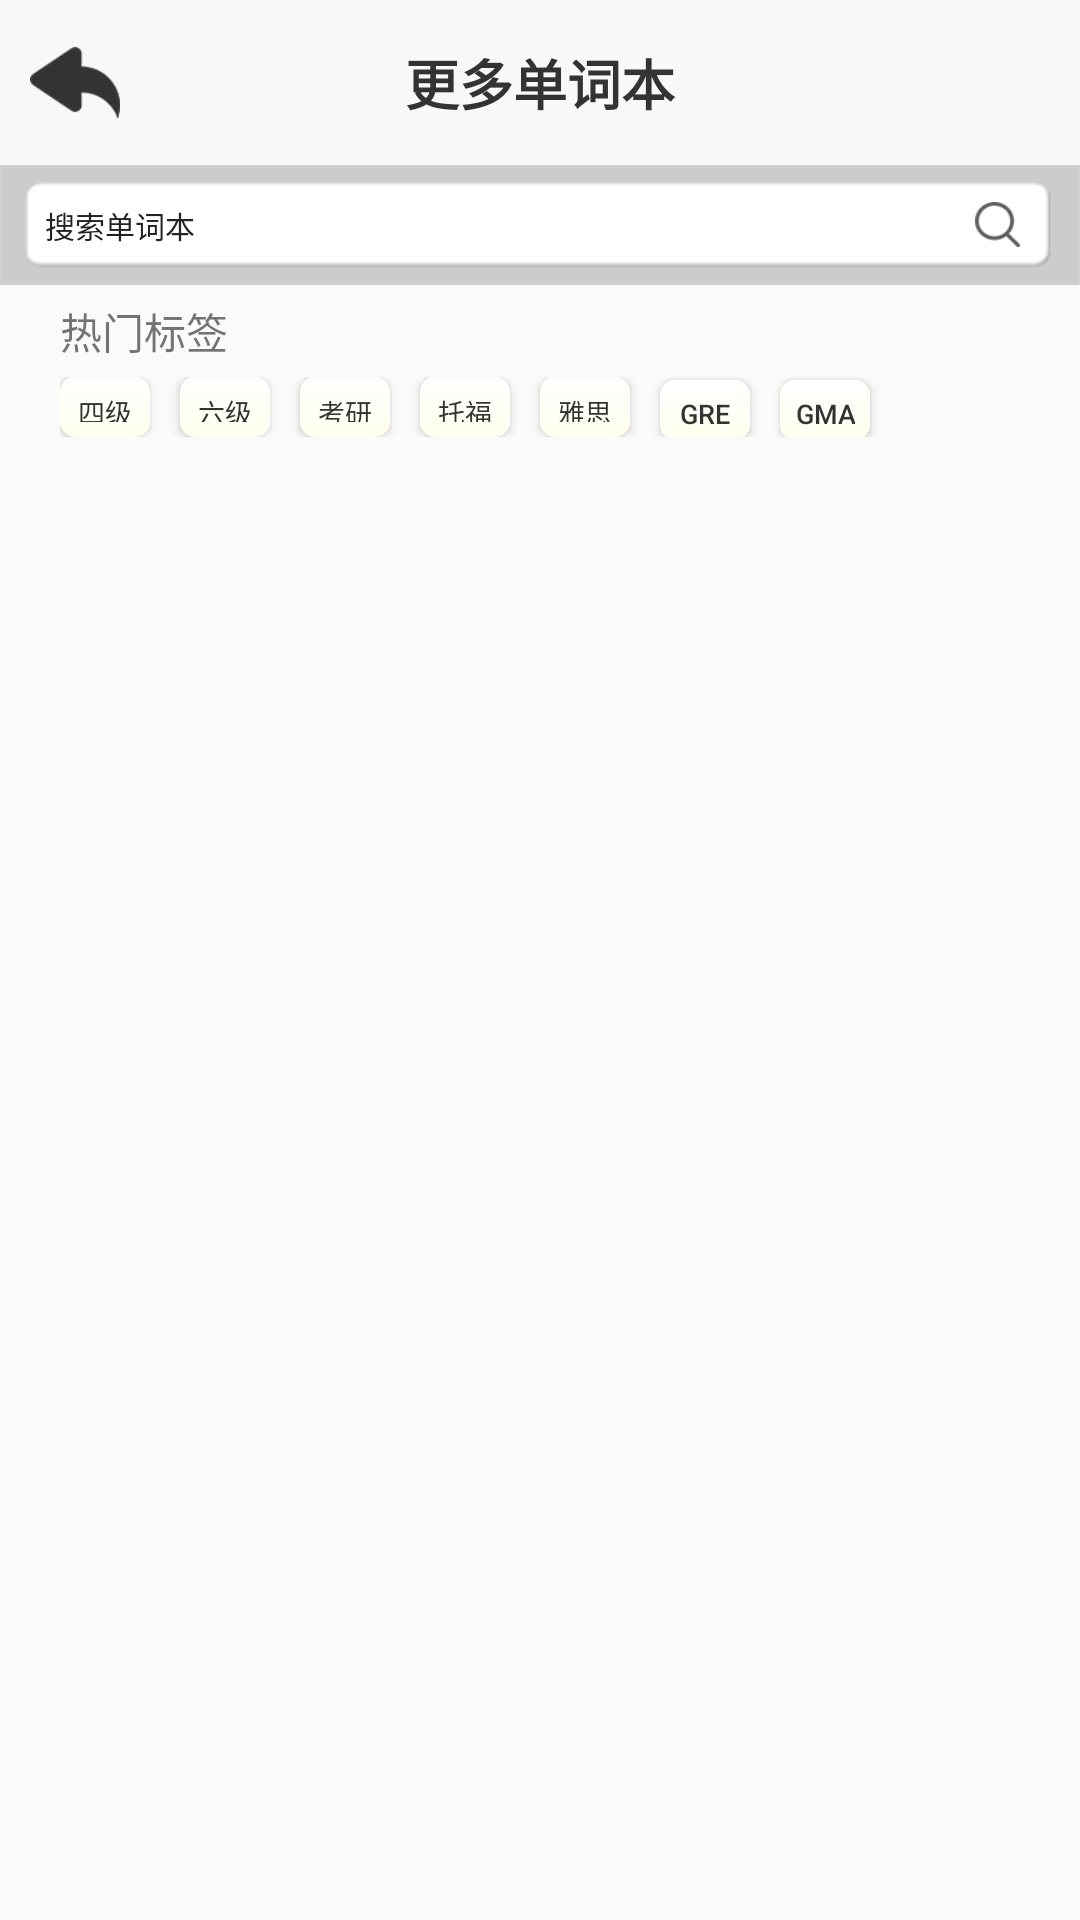

Icons on this 1080 x 1920 Android screen, each with its box as (x1, y1, x2, y2):
return: (30, 47, 120, 118)
